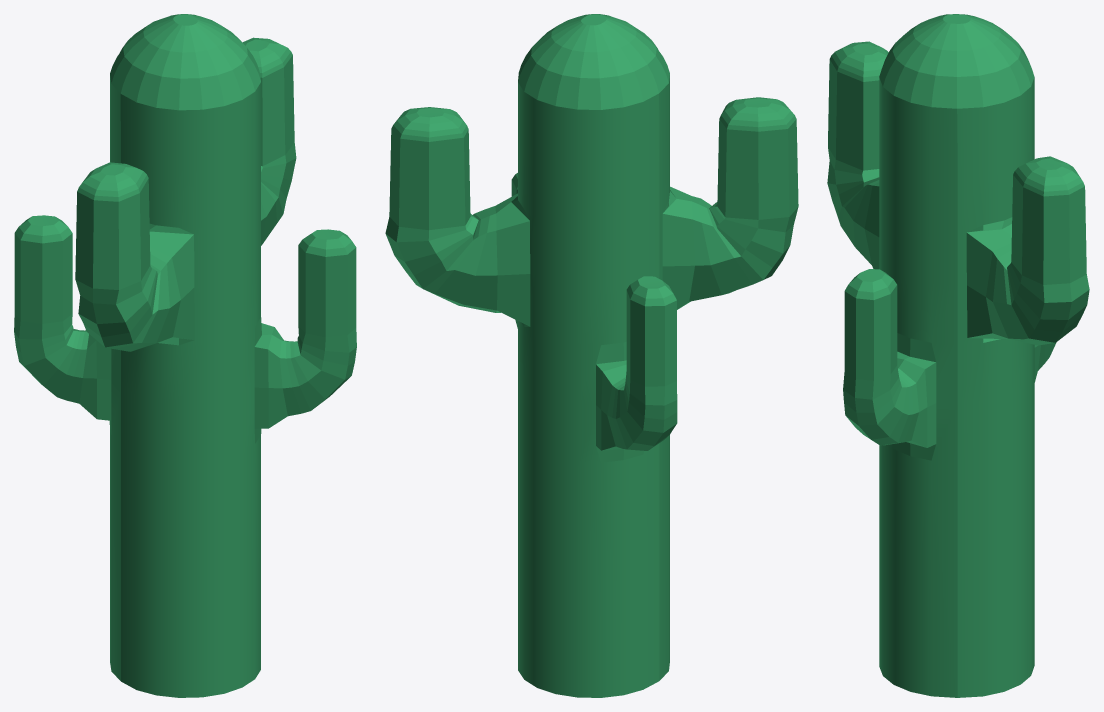
File: Cactus.fbx
The picture shows the model from 3 angles, left to right: view 1: azimuth 30°, elevation 25°; view 2: azimuth 150°, elevation 25°; view 3: azimuth 270°, elevation 25°; orthographic projection.
Parts seen in each view (by area): view 1: polySurface1; view 2: polySurface1; view 3: polySurface1.
Part boxes in pixels (x1,y1,x2,y2): polySurface1: (14, 14, 356, 697); polySurface1: (385, 14, 798, 697); polySurface1: (827, 14, 1089, 697).
Size of the model in its own units: 2.08 by 4.17 by 1.53.
